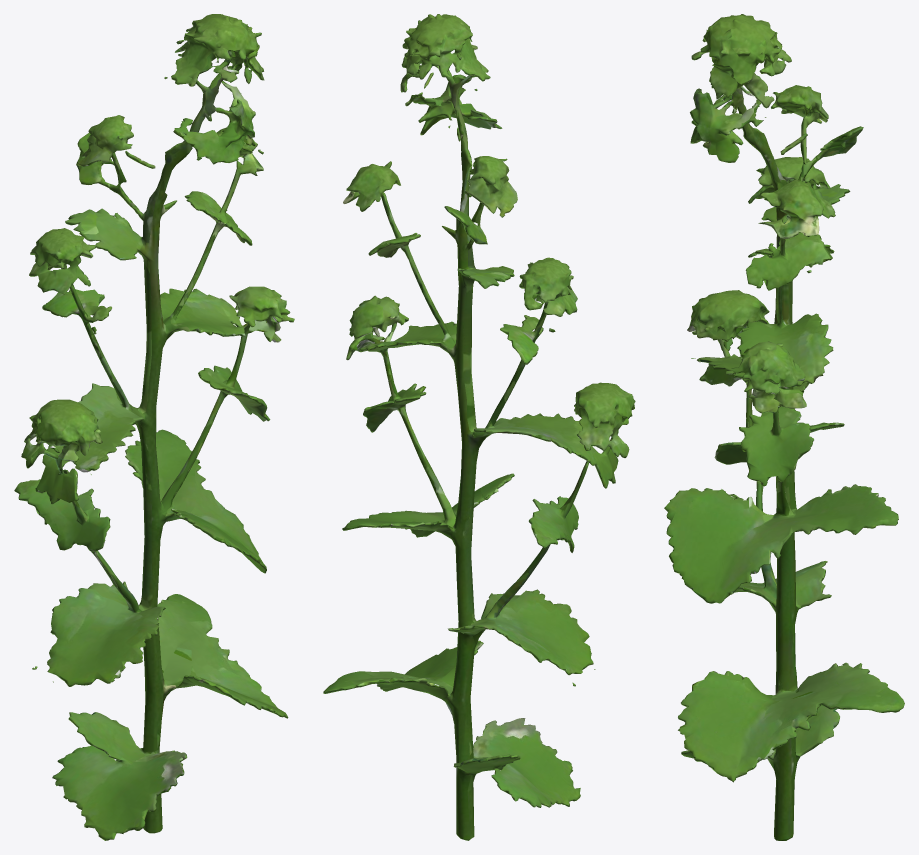
File: g-weedy-herb.glb
3 renders of one model, left to right at view 1: azimuth 30°, elevation 25°; view 2: azimuth 150°, elevation 25°; view 3: azimuth 270°, elevation 25°, orthographic. The views are drawn at different scales.
Parts seen in each view (by area): view 1: world; view 2: world; view 3: world.
Boxes of the visible parts, box(x1,y1,x2,y2) form: world: box(14, 14, 294, 840); world: box(323, 14, 635, 840); world: box(664, 14, 904, 840).
Bounding box in the file's own units: 0.6867 × 1.99 × 0.5137.
Materials: 1 (1 with a texture image).
